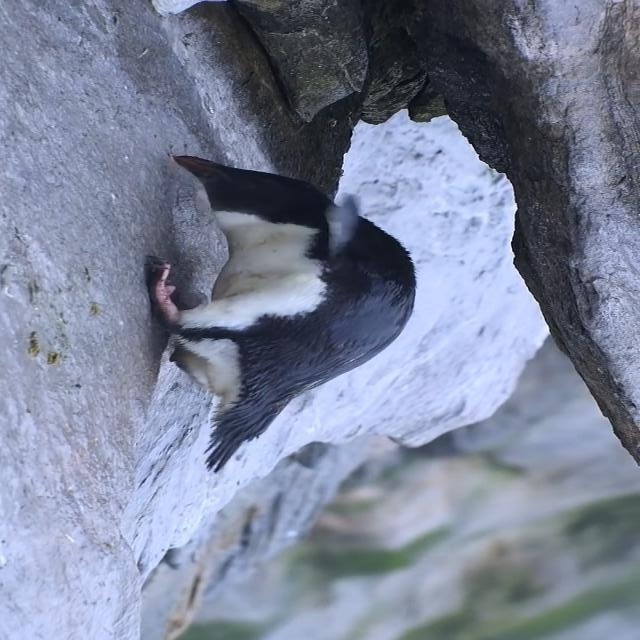penguin: (142, 154, 419, 476)
